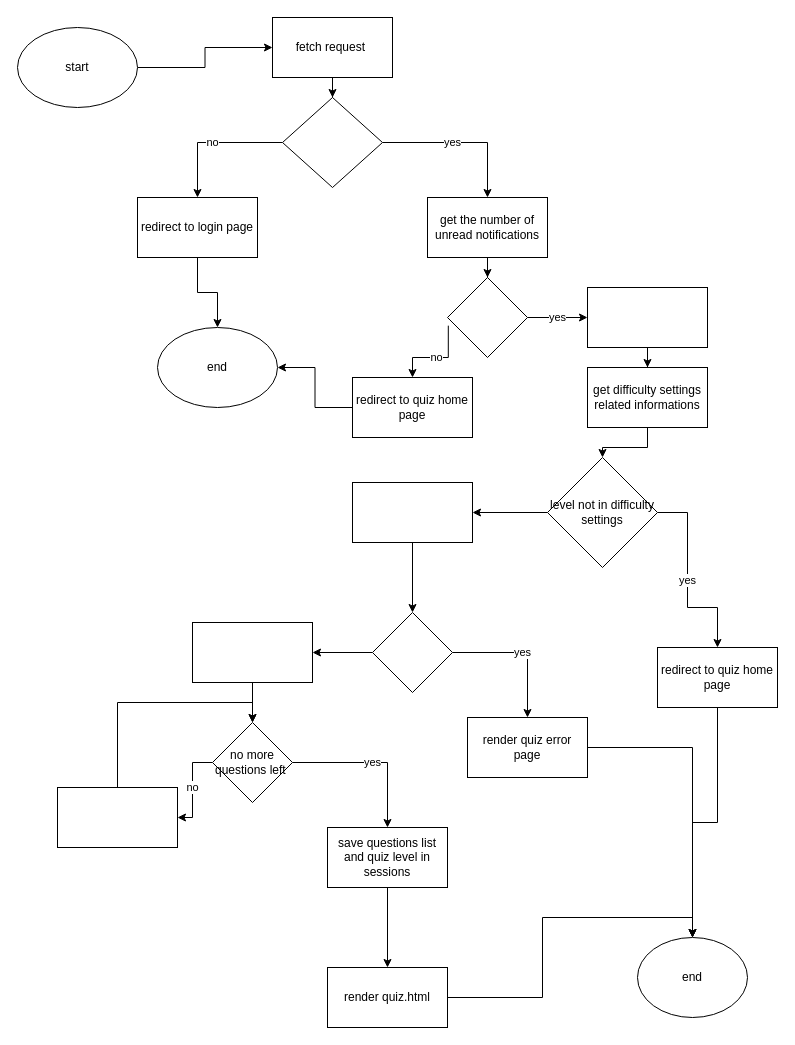
Some shapes in this 795 by 1045 pixel diagram are drawn without their labels. The shapes that lost their labels are listed below. From the top down, each one's centre as x and y in pixels, then its label:
(x=332, y=142): logged in
(x=487, y=317): request is post
(x=647, y=317): fetch level of the quiz from user
(x=412, y=512): get 20 unique questions based on level specified
(x=252, y=652): randomize the 20 questions we have
(x=412, y=652): less than 20 questions
(x=117, y=817): add question info to the questions list
